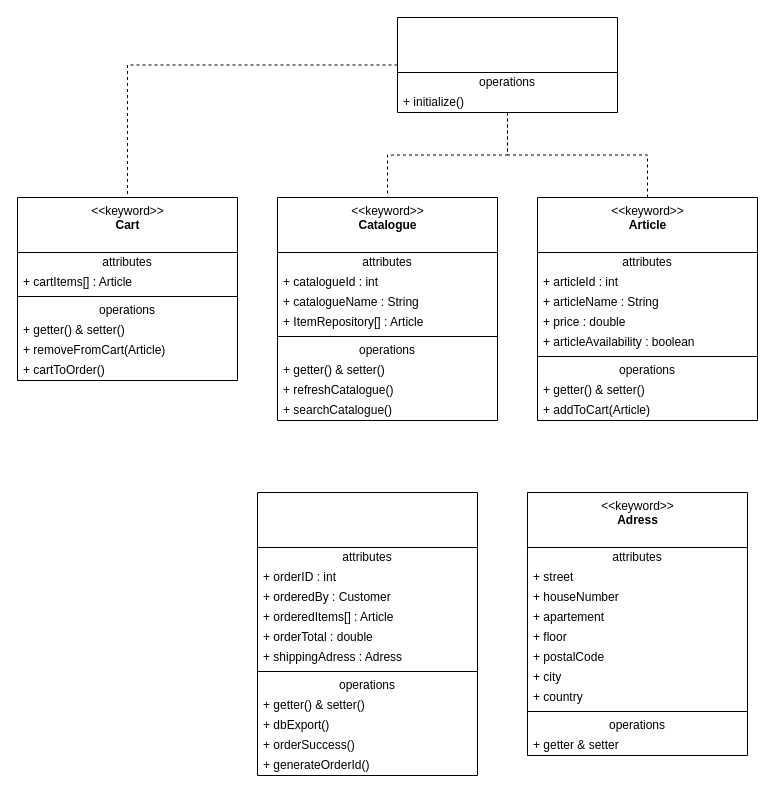
Some shapes in this 775 by 793 pixel diagram are drawn without their labels. Here are the shapes that lost their labels. From the top down, the box of each, then its label:
(396, 16, 618, 112): <<keyword>> InitI {Interface}
(256, 492, 478, 776): <<keyword>> Order
